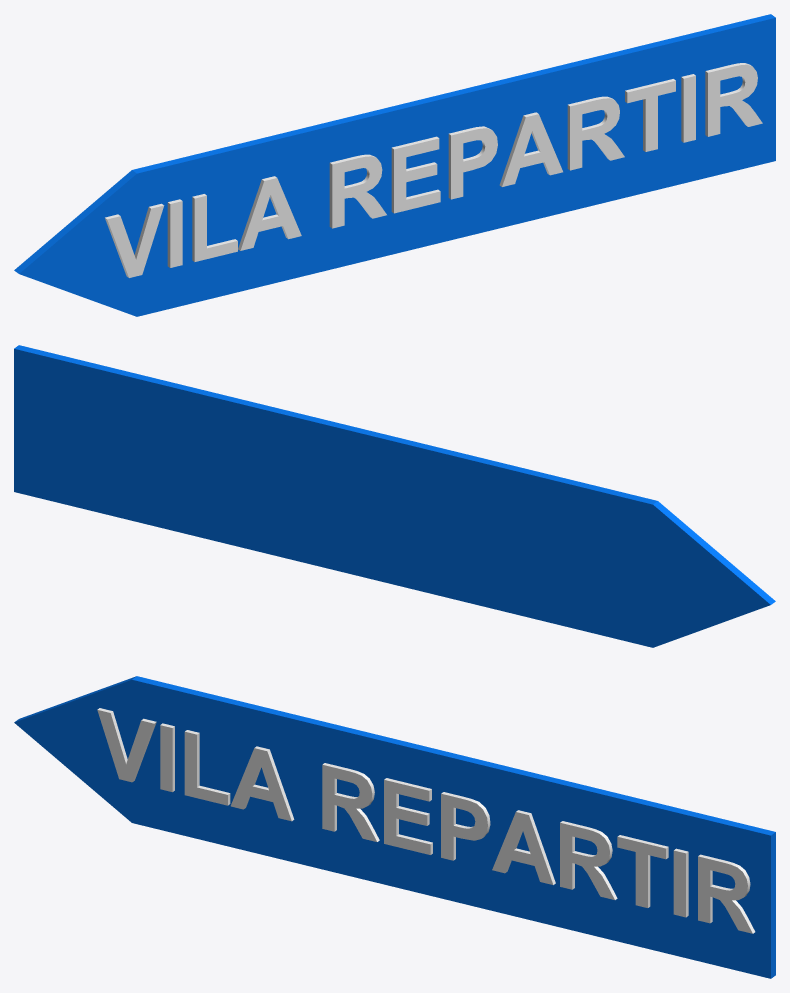
The model's file is placa Vila Repartir.fbx.
The picture shows the model from 3 angles, top to bottom: view 1: azimuth 30°, elevation 25°; view 2: azimuth 150°, elevation 25°; view 3: azimuth 330°, elevation 25°; orthographic projection.
Parts seen in each view (by area): view 1: vila repartir; view 2: vila repartir; view 3: vila repartir.
Boxes of the visible parts, left/top/right/bottom form: vila repartir: left=14, top=14, right=775, bottom=316; vila repartir: left=14, top=345, right=775, bottom=647; vila repartir: left=14, top=676, right=775, bottom=978.
Bounding box in the file's own units: 1750 × 317 × 30.
